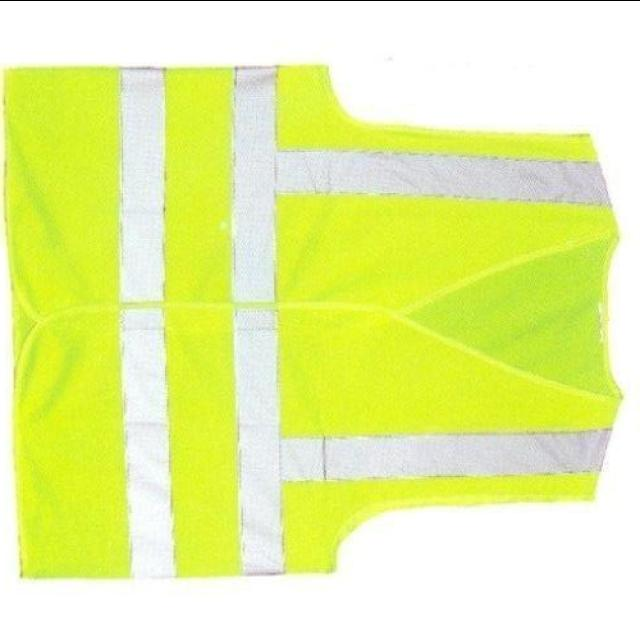jacket: (2, 51, 630, 585)
